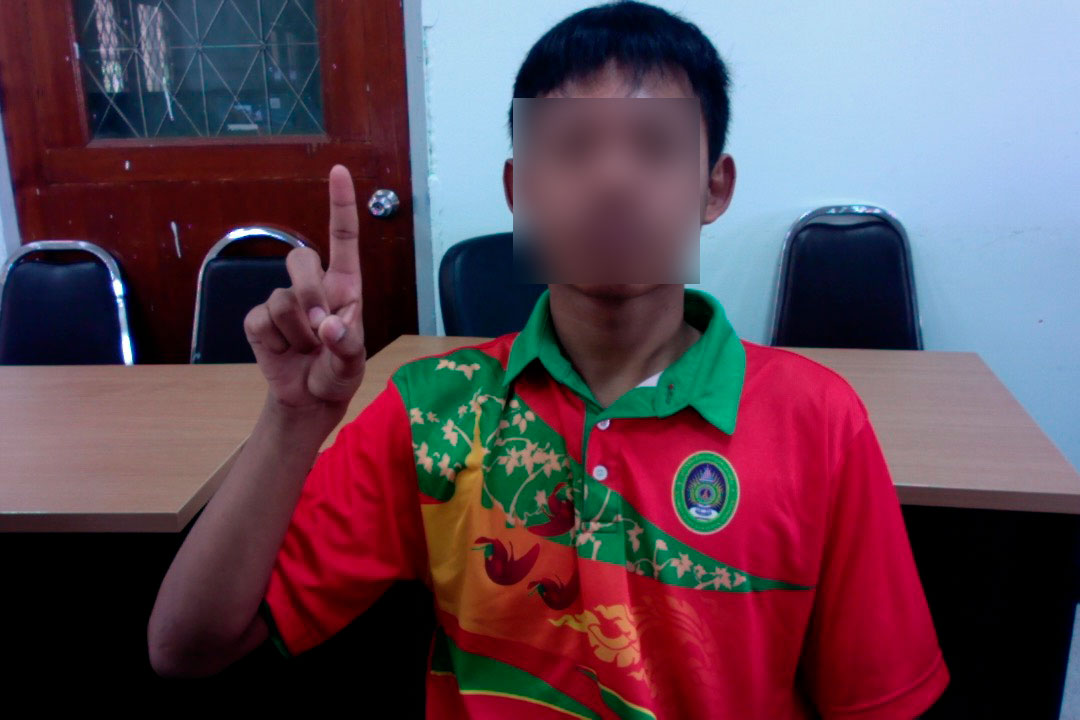dor: (241, 161, 377, 425)
